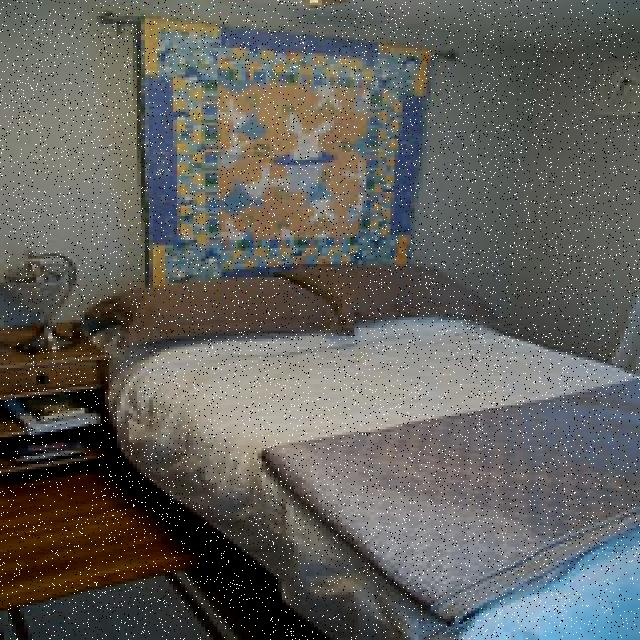bed: (100, 247, 640, 637)
